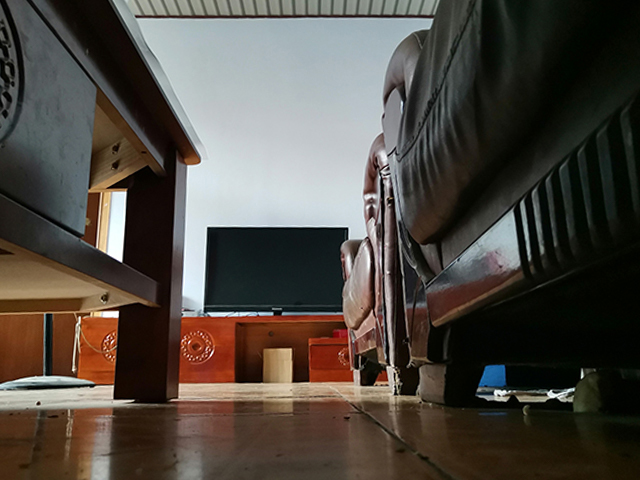cabinet: (72, 311, 354, 385)
sofa: (336, 1, 640, 410)
